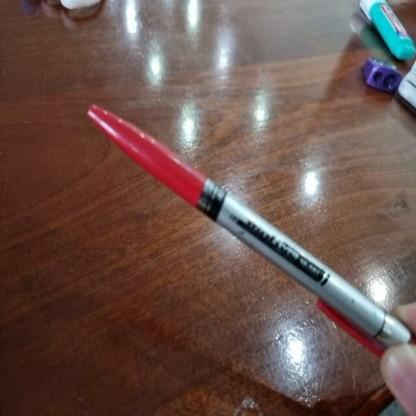not trash: (84, 106, 414, 356), (350, 0, 416, 60), (362, 60, 402, 94)
